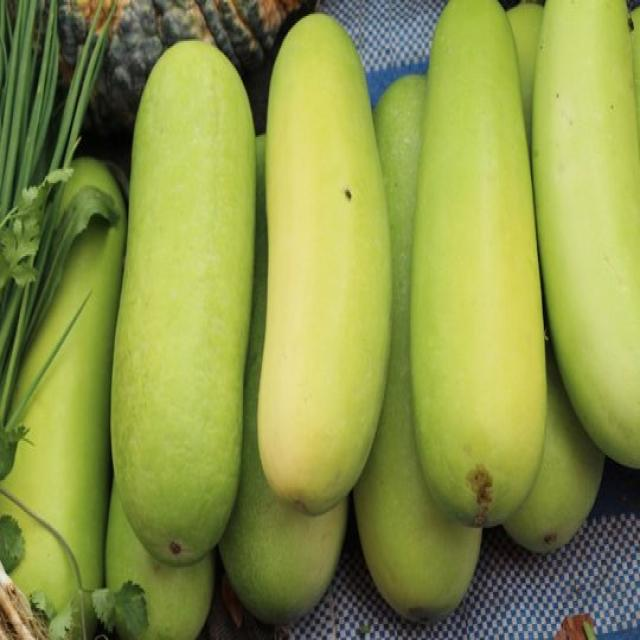Bottle Gourd: (108, 36, 257, 567), (256, 11, 392, 514), (420, 2, 540, 480), (548, 0, 640, 456), (20, 137, 105, 616)
Fenugreek: (0, 0, 639, 638)
